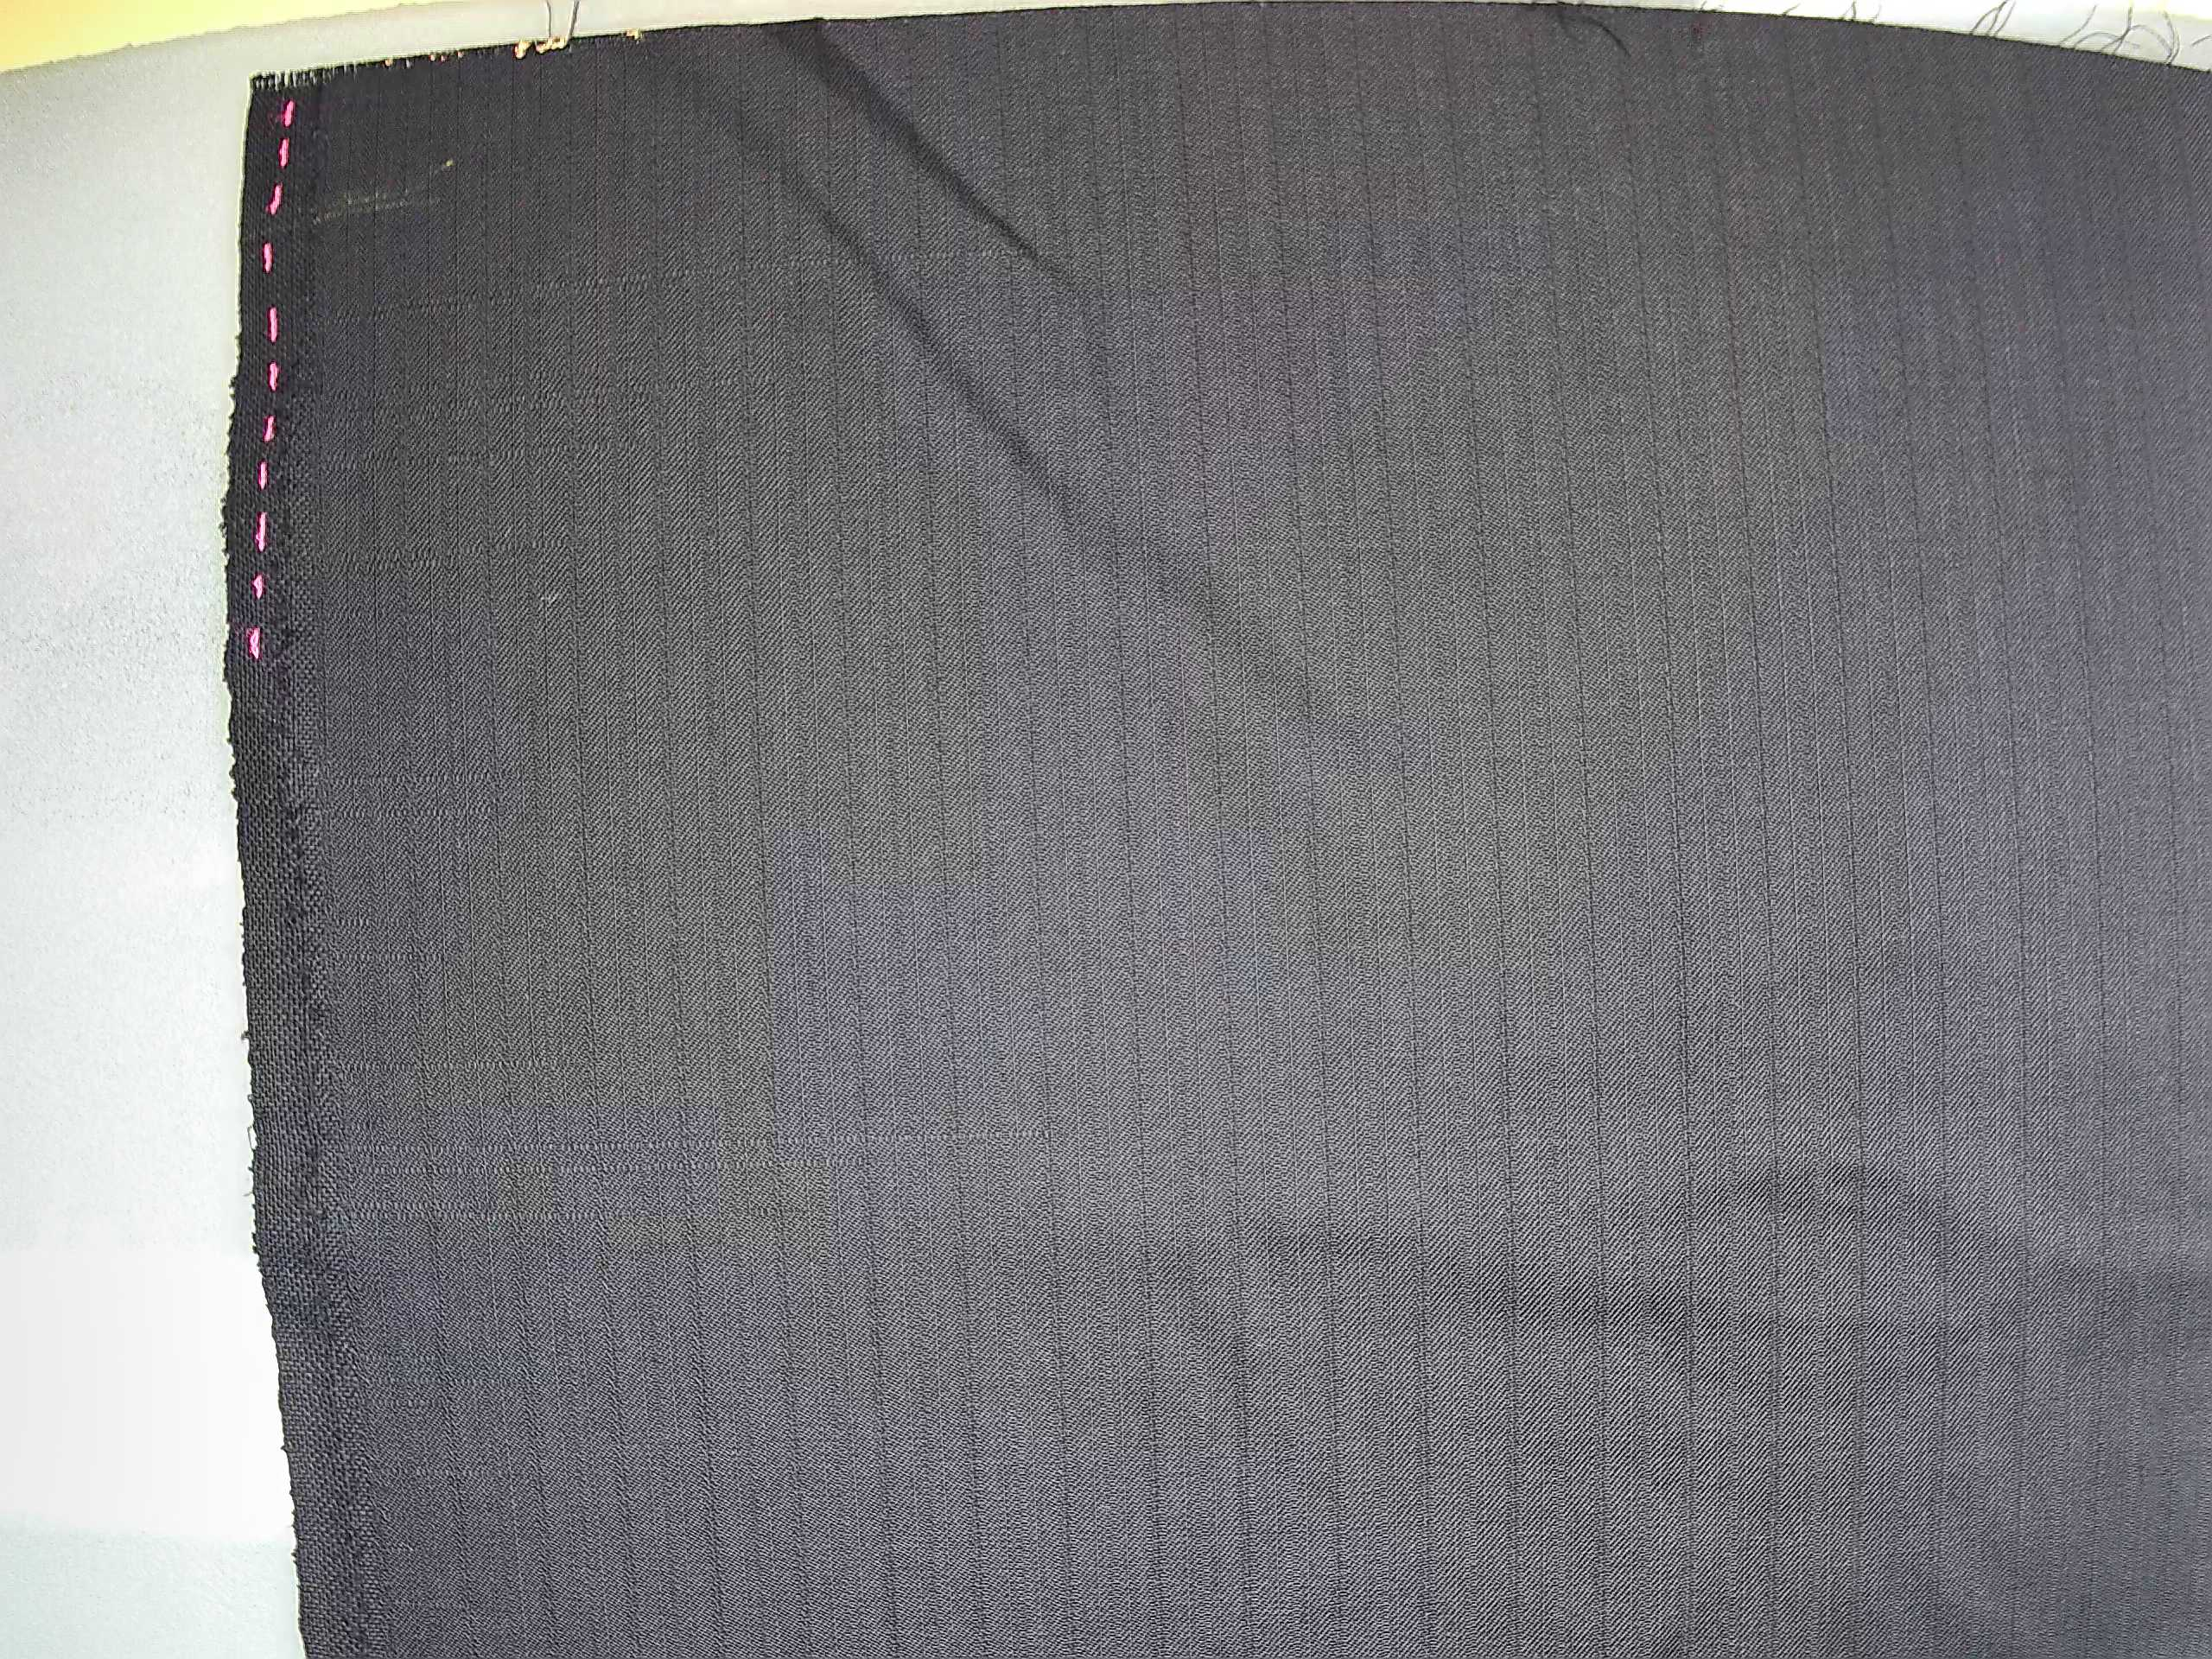others: (280, 251, 1036, 335), (331, 1134, 1061, 1175), (286, 369, 765, 411), (303, 756, 516, 831), (289, 533, 625, 580), (331, 1195, 685, 1234), (289, 434, 644, 469), (322, 1046, 582, 1082), (319, 910, 467, 972), (293, 603, 463, 647)
